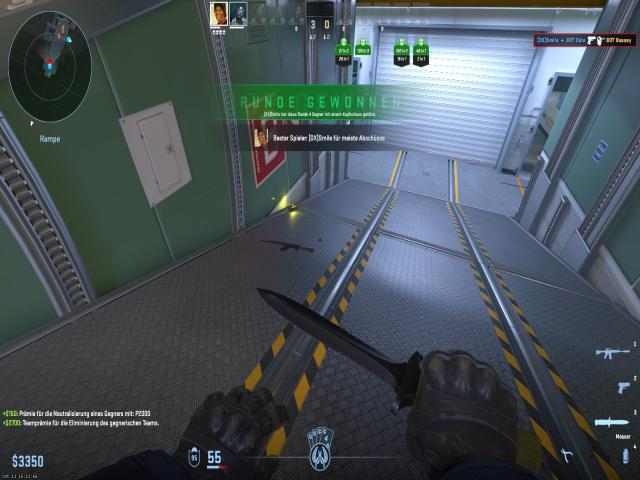Bomb: (286, 202, 300, 214)
